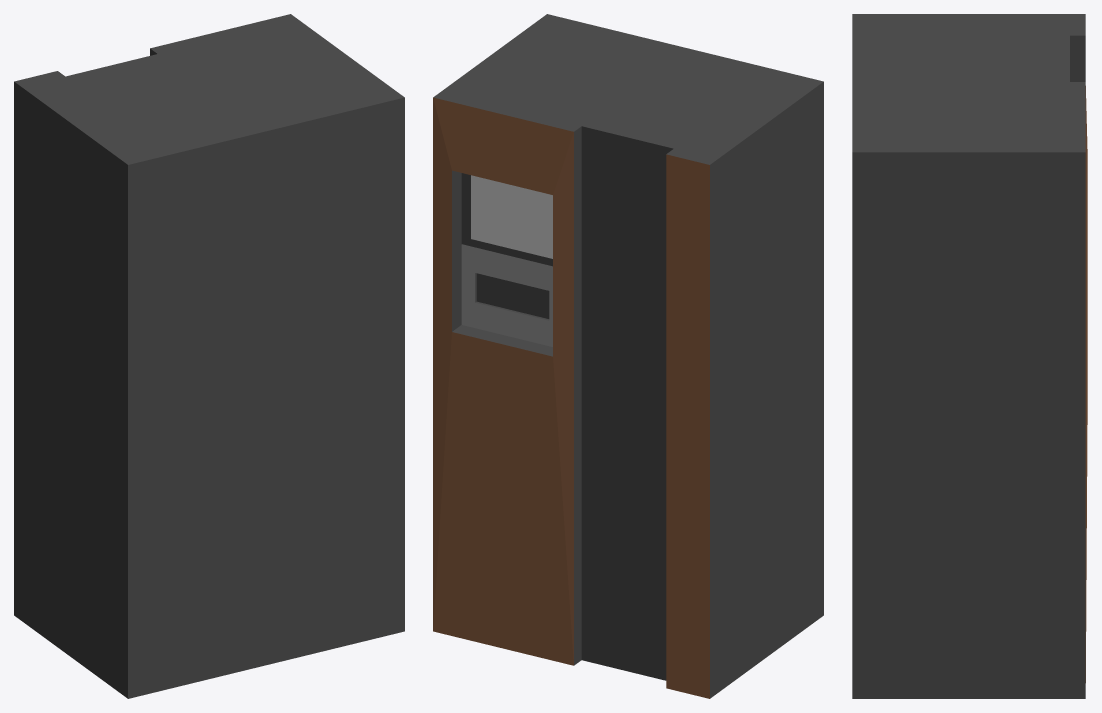
The model's file is MS_Vending.fbx.
3 renders of one model, left to right at view 1: azimuth 30°, elevation 25°; view 2: azimuth 150°, elevation 25°; view 3: azimuth 270°, elevation 25°, orthographic. The views are drawn at different scales.
Visible parts, largest first — view 1: MS_Vending; view 2: MS_Vending; view 3: MS_Vending.
Boxes of the visible parts, box(x1,y1,x2,y2) form: MS_Vending: box(14, 14, 404, 698); MS_Vending: box(433, 14, 823, 698); MS_Vending: box(852, 14, 1087, 698).
Bounding box in the file's own units: 1.08 × 2 × 0.7812.
